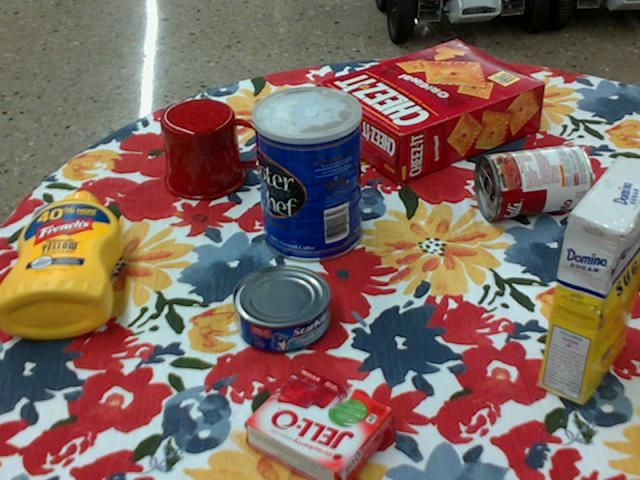cracker_box: (319, 42, 545, 185)
gelatin_box: (247, 369, 397, 479)
master_chef_can: (251, 85, 362, 262)
mug: (160, 98, 266, 200)
mustard_bottle: (0, 191, 123, 338)
sugar_box: (539, 155, 639, 406)
tomato_soup_can: (475, 142, 593, 220)
tuna_fish_can: (232, 265, 330, 354)
